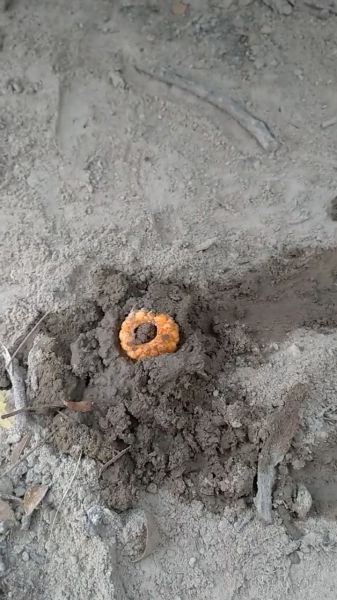eggs: (118, 303, 183, 370)
